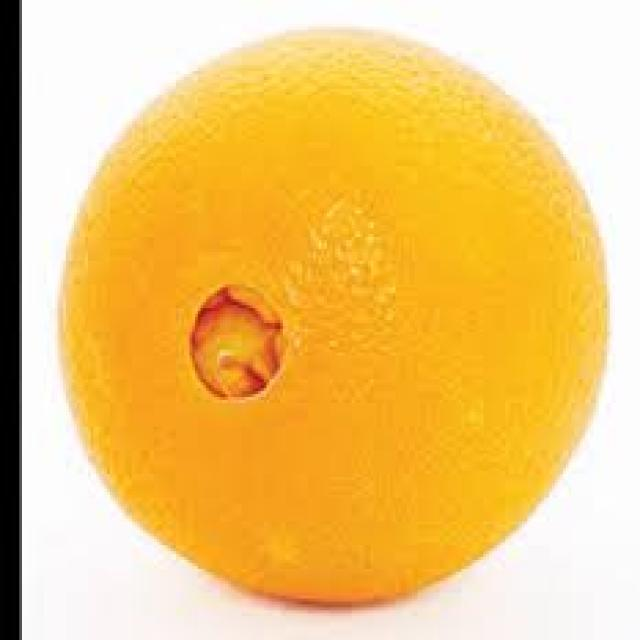Good_Orange: (55, 27, 610, 610)
